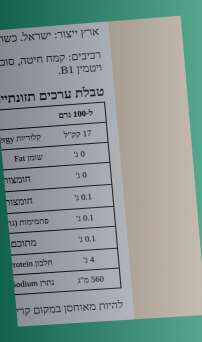carbs: (75, 212, 95, 224)
energy: (62, 128, 93, 141)
fat: (72, 148, 86, 160)
protein: (82, 254, 96, 265)
